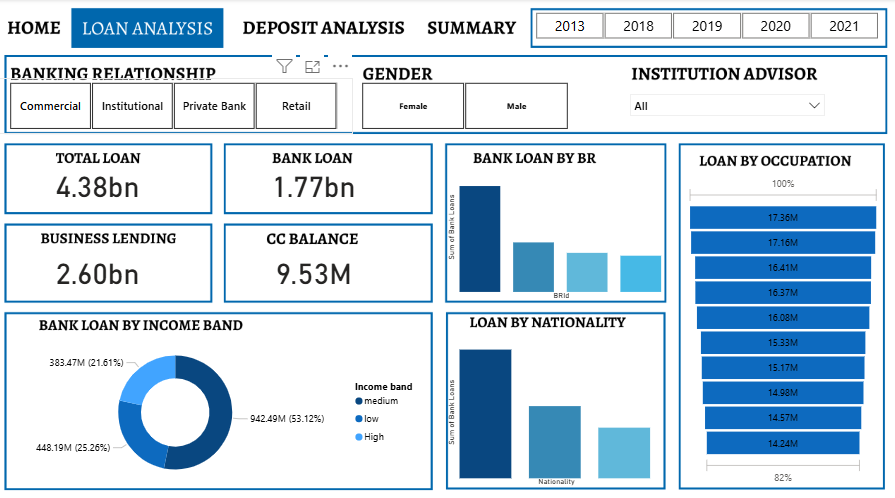

The dashboard page shown, as its layout file describes it:
{"tool":"powerbi","page":{"name":"Page 2","canvas":[1280,720],"ordinal":1},"visuals":[{"type":"actionButton","box":[9.9,18.4,100.6,39.7],"z":0},{"type":"actionButton","box":[343,18.4,252.3,39.7],"z":1000},{"type":"actionButton","box":[606.6,18.4,143.1,39.7],"z":2000},{"type":"card","fields":{"Values":["Banking.total loorn"]},"box":[9.9,216.9,279.2,89.3],"z":3000},{"type":"card","fields":{"Values":["Sum(Banking.Bank Loans)"]},"box":[316.1,216.9,279.2,89.3],"z":4000},{"type":"card","fields":{"Values":["Sum(Banking.Business Lending)"]},"box":[9.9,340.2,279.2,89.3],"z":5000},{"type":"card","fields":{"Values":["Sum(Banking.Credit Card Balance)"]},"box":[316.1,340.2,279.2,89.3],"z":6000},{"type":"donutChart","fields":{"Category":["Banking.Income band"],"Y":["Sum(Banking.Bank Loans)"]},"box":[0,477.6,619.4,216.9],"z":7000},{"type":"clusteredColumnChart","fields":{"Category":["Banking.BRId"],"Y":["Sum(Banking.Bank Loans)"]},"box":[640,216.7,315.8,213.3],"z":8000},{"type":"clusteredColumnChart","fields":{"Category":["Banking.Nationality"],"Y":["Sum(Banking.Bank Loans)"]},"box":[640,477.1,302.4,216.7],"z":9000},{"type":"slicer","fields":{"Values":["Banking.BRId"]},"box":[0,112.5,512.3,79],"z":10000},{"type":"slicer","fields":{"Values":["Banking.IAId"]},"box":[893.6,124.3,295.6,79],"z":11000},{"type":"slicer","fields":{"Values":["Banking.GenderId"]},"box":[498.9,112.5,341,79],"z":12000},{"type":"funnel","fields":{"Category":["Banking.Occupation"],"Y":["Sum(Banking.Bank Loans)"]},"box":[979.3,245.2,283.9,448.5],"z":13000},{"type":"slicer","fields":{"Values":["Banking.year of joining"]},"box":[745.8,13.4,534.2,50.4],"z":14000}]}

Visuals, with their boxes in screenshot pixels (x1, y1, x2, y2), scaled from the page's 1280x720 canvas onto the 895x498 screenshot:
actionButton: box(7, 13, 77, 40)
actionButton: box(240, 13, 416, 40)
actionButton: box(424, 13, 524, 40)
card - Banking.total loorn: box(7, 150, 202, 212)
card - Sum(Banking.Bank Loans): box(221, 150, 416, 212)
card - Sum(Banking.Business Lending): box(7, 235, 202, 297)
card - Sum(Banking.Credit Card Balance): box(221, 235, 416, 297)
donutChart - Banking.Income band x Sum(Banking.Bank Loans): box(0, 330, 433, 480)
clusteredColumnChart - Banking.BRId x Sum(Banking.Bank Loans): box(448, 150, 668, 297)
clusteredColumnChart - Banking.Nationality x Sum(Banking.Bank Loans): box(448, 330, 659, 480)
slicer - Banking.BRId: box(0, 78, 358, 132)
slicer - Banking.IAId: box(625, 86, 832, 141)
slicer - Banking.GenderId: box(349, 78, 587, 132)
funnel - Banking.Occupation x Sum(Banking.Bank Loans): box(685, 170, 883, 480)
slicer - Banking.year of joining: box(521, 9, 894, 44)
